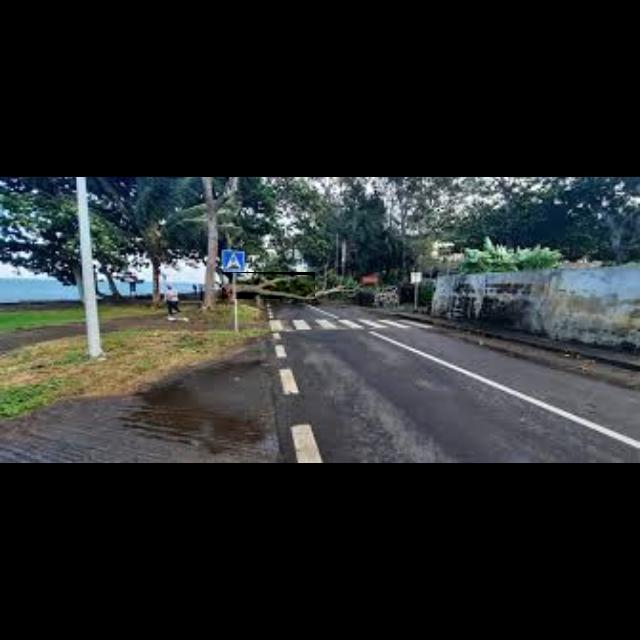fallen_tree: (222, 272, 316, 300)
